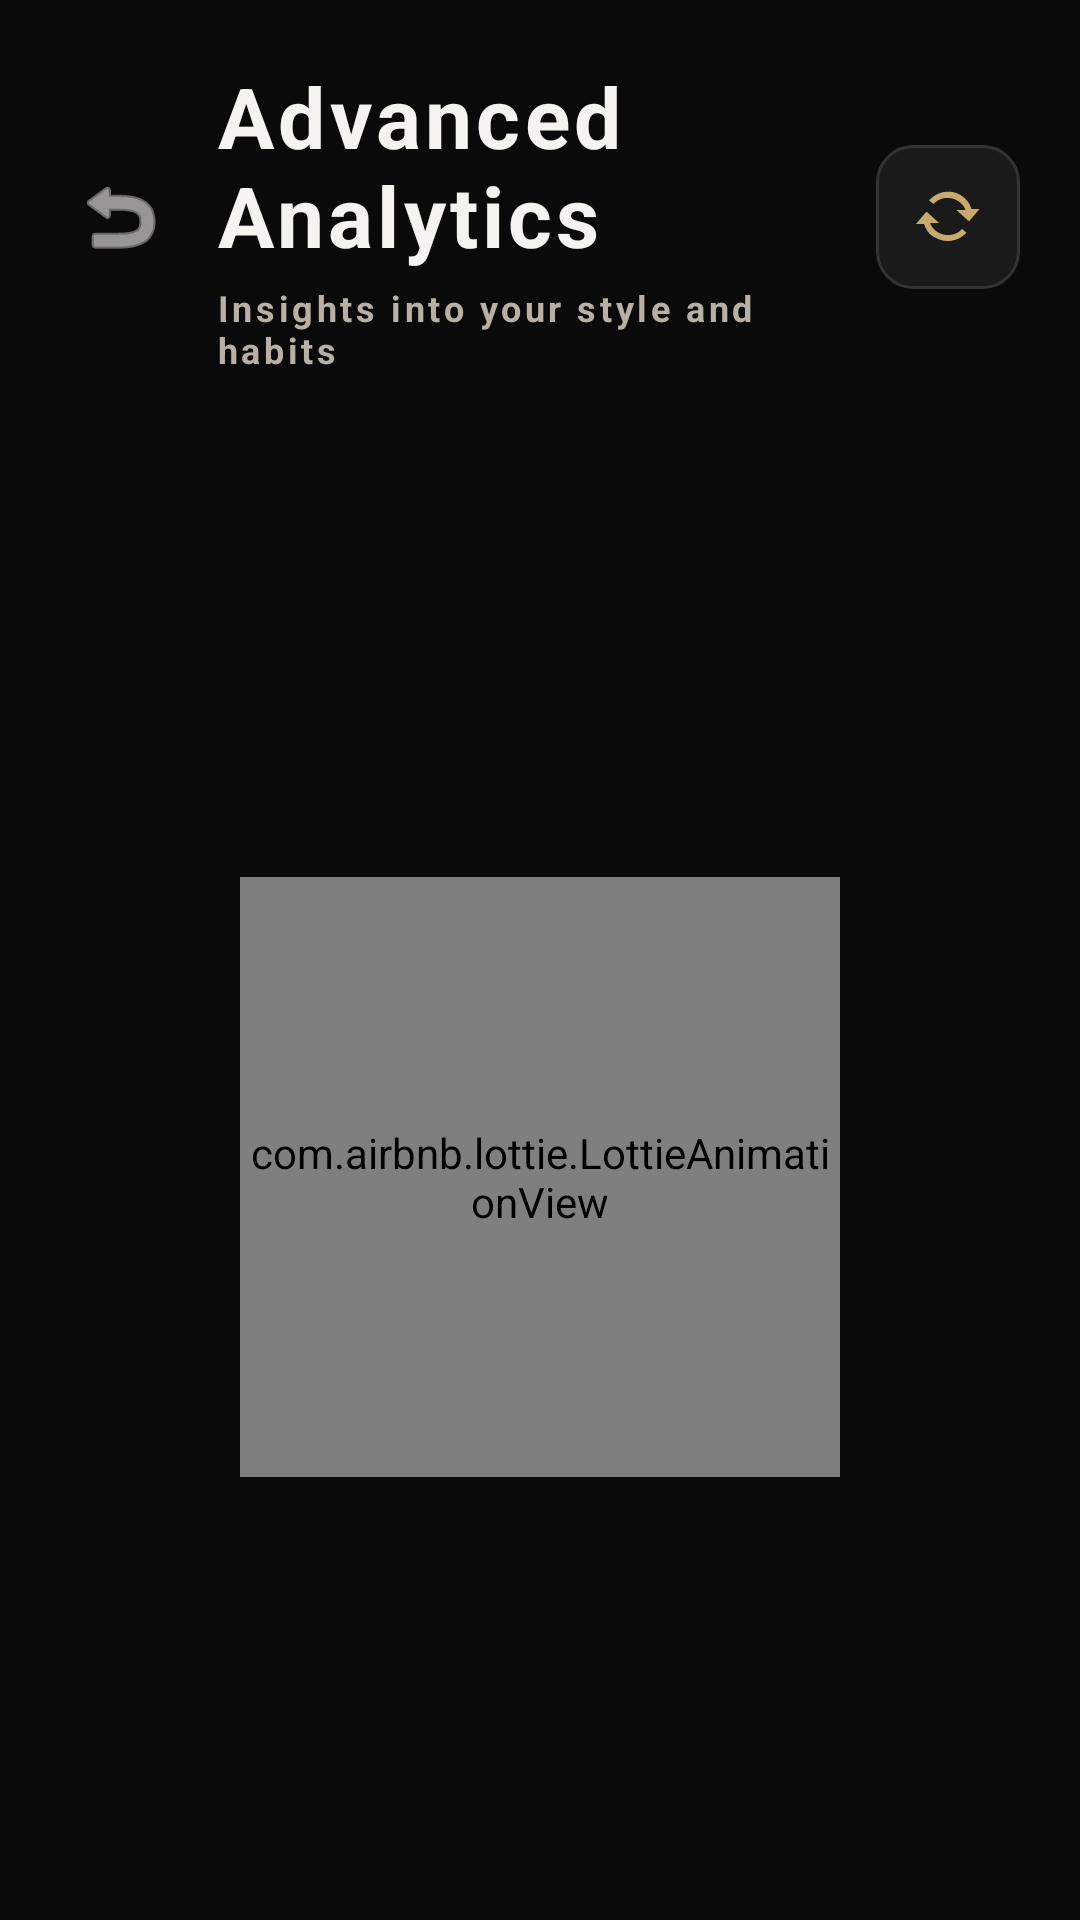

Locate icon controls on the screen. Image size 1080px×1920px, boxes as (x1, y1, x2, y2).
revert: (87, 186, 156, 249)
sync: (876, 145, 1020, 289)
